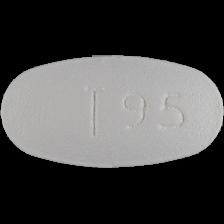61786-731: (0, 0, 224, 224)
